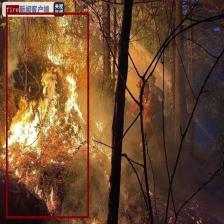fire: (5, 12, 88, 218)
